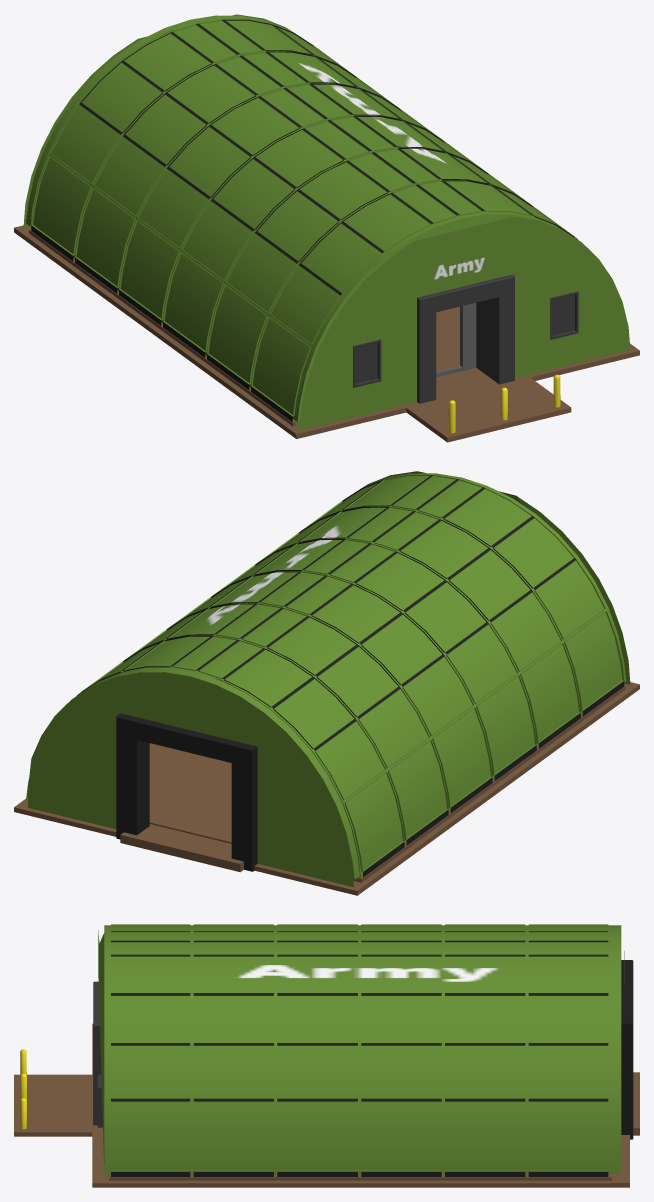
Rendered from Military tend.fbx.
3 renders of one model, top to bottom at view 1: azimuth 30°, elevation 25°; view 2: azimuth 150°, elevation 25°; view 3: azimuth 270°, elevation 25°, orthographic. The views are drawn at different scales.
Visible parts, largest first — view 1: Military _Tent; view 2: Military _Tent; view 3: Military _Tent.
Part boxes in pixels (bbox=[...]): Military _Tent: bbox=[14, 14, 639, 442]; Military _Tent: bbox=[14, 471, 639, 895]; Military _Tent: bbox=[14, 924, 639, 1187].
Bounding box in the file's own units: 983 × 479 × 1630.
1 material, 1 textured.
